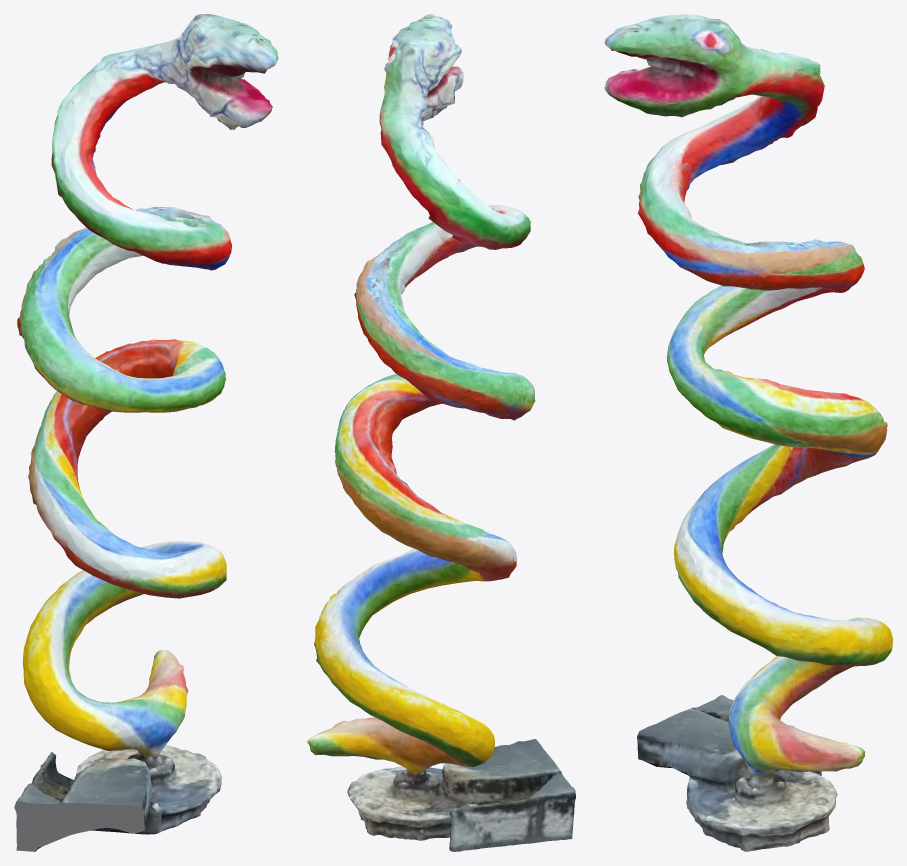
The model's file is preview.glb.
The picture shows the model from 3 angles, left to right: view 1: azimuth 30°, elevation 25°; view 2: azimuth 150°, elevation 25°; view 3: azimuth 270°, elevation 25°; orthographic projection. The views are drawn at different scales.
Parts seen in each view (by area): view 1: Object_2; view 2: Object_2; view 3: Object_2.
Boxes of the visible parts, x1,y1,x2,y2 form: Object_2: (14,14,278,851); Object_2: (307,14,575,851); Object_2: (604,14,892,851).
Bounding box in the file's own units: 0.486 × 1.58 × 0.5048.
1 material, 1 textured.
